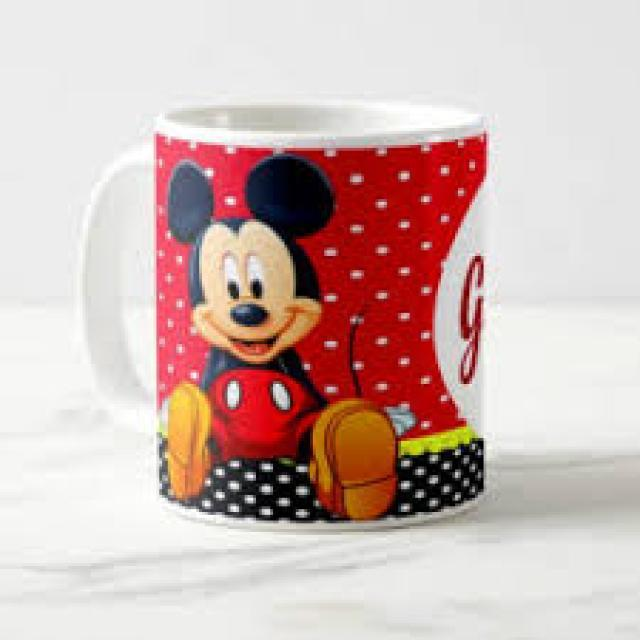taza: (74, 98, 490, 534)
